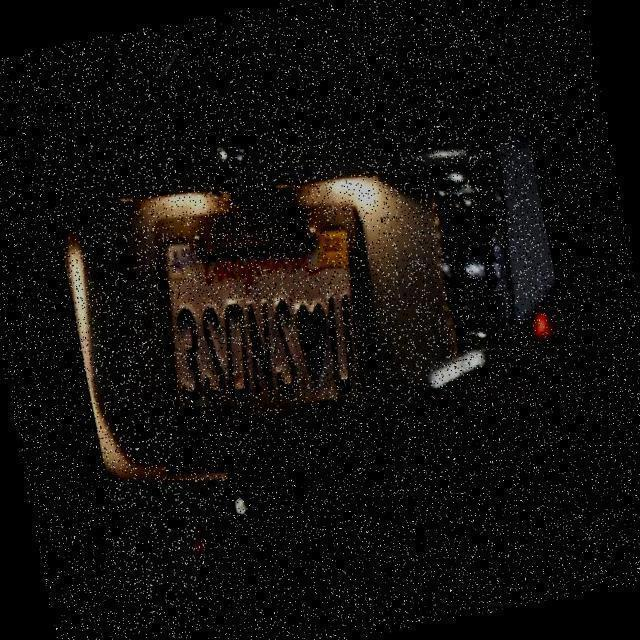license_plate: (130, 174, 406, 458)
